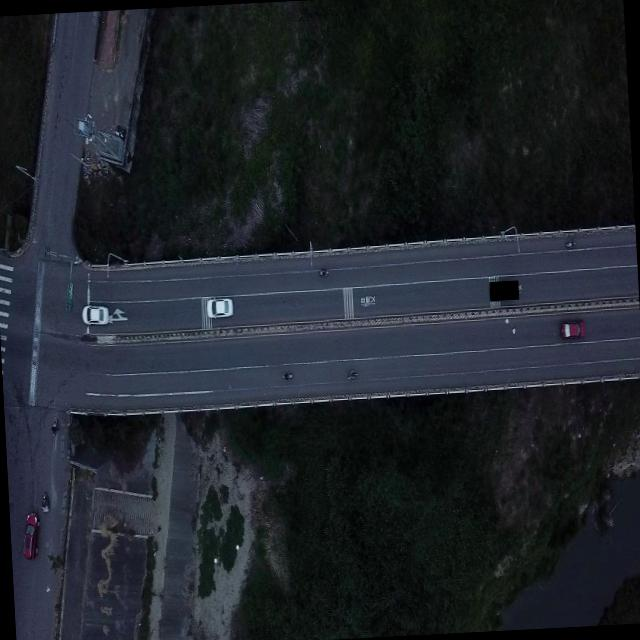bike: (49, 416, 62, 438), (39, 490, 50, 516), (345, 366, 359, 384), (562, 236, 577, 252), (282, 368, 295, 381), (318, 266, 329, 278)
car: (22, 512, 41, 558), (83, 303, 110, 327), (206, 296, 234, 318), (562, 320, 584, 340)
